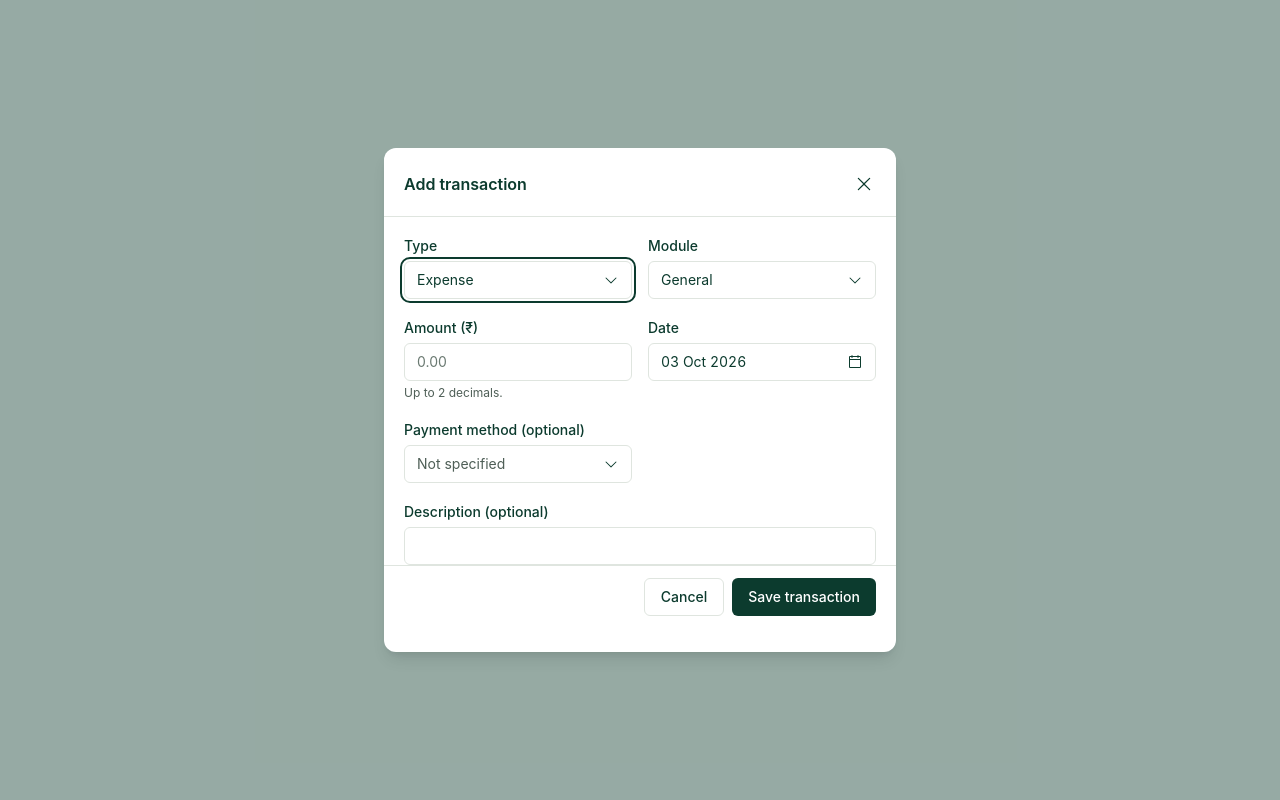
Test: AddTransactionDialog › shows a retryable error when saving fails and stays open
The image size is (1280, 800).
Type "10" into the field labelled "Amount (₹)".
click(518, 362); type("10")  # box top-left (404, 343), bottom-right (632, 381)
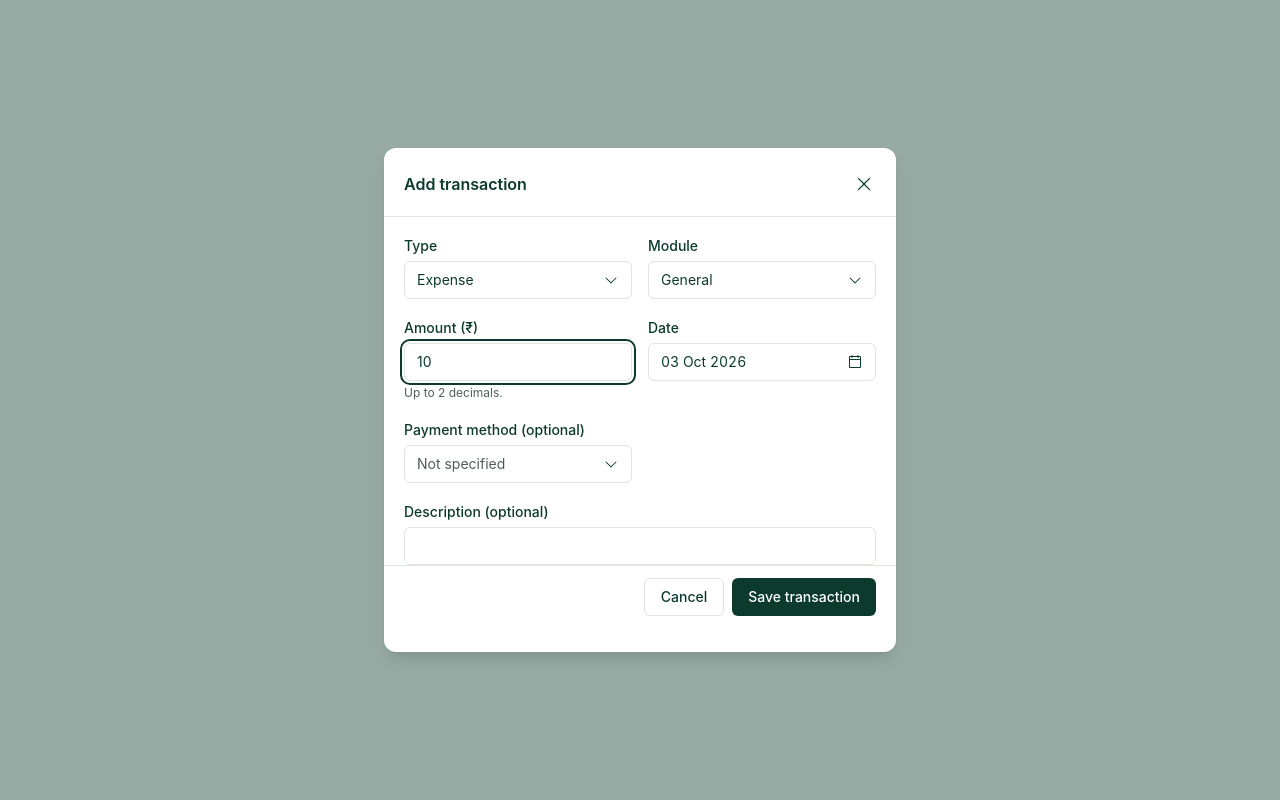
Click the button "Save transaction".
click(804, 597)  # box top-left (732, 578), bottom-right (876, 616)
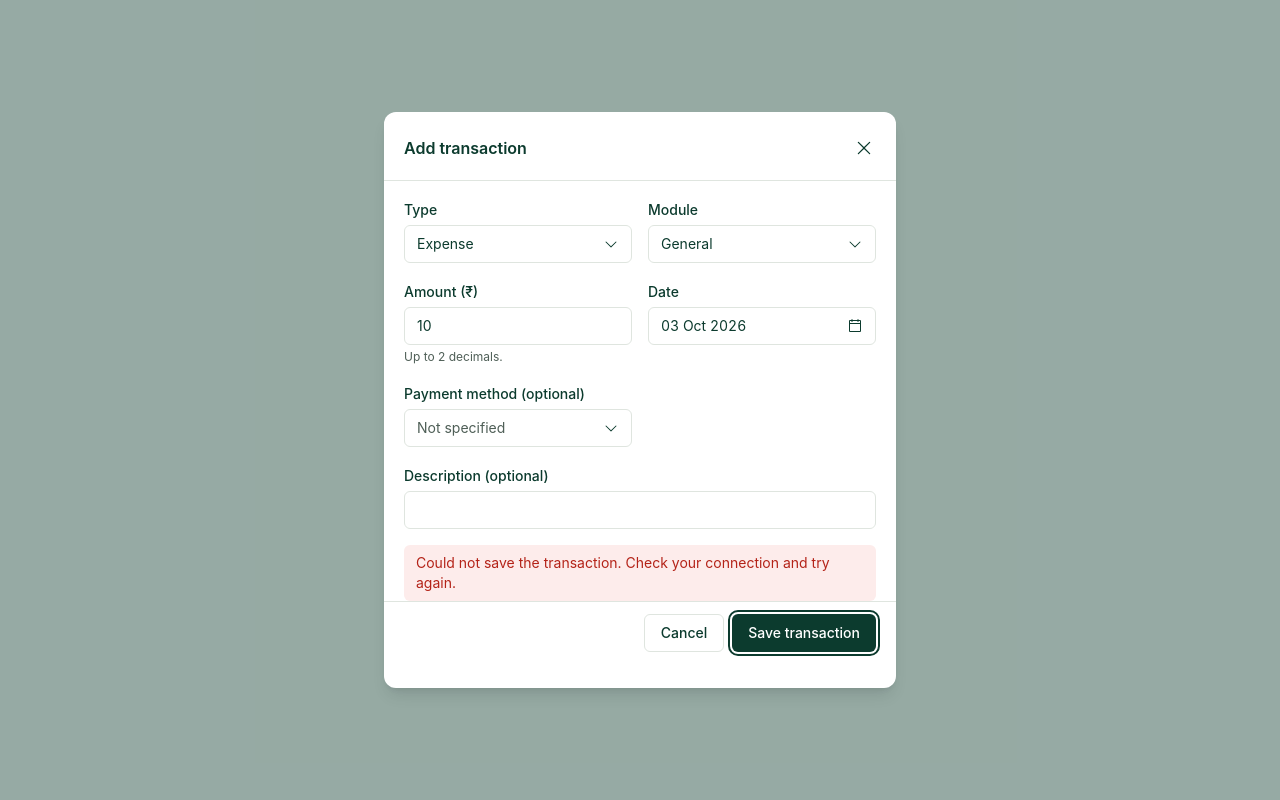
Expected: the text "Could not save the transaction. Check your connection and try again." is shown, top-left (404, 545), bottom-right (876, 601)
